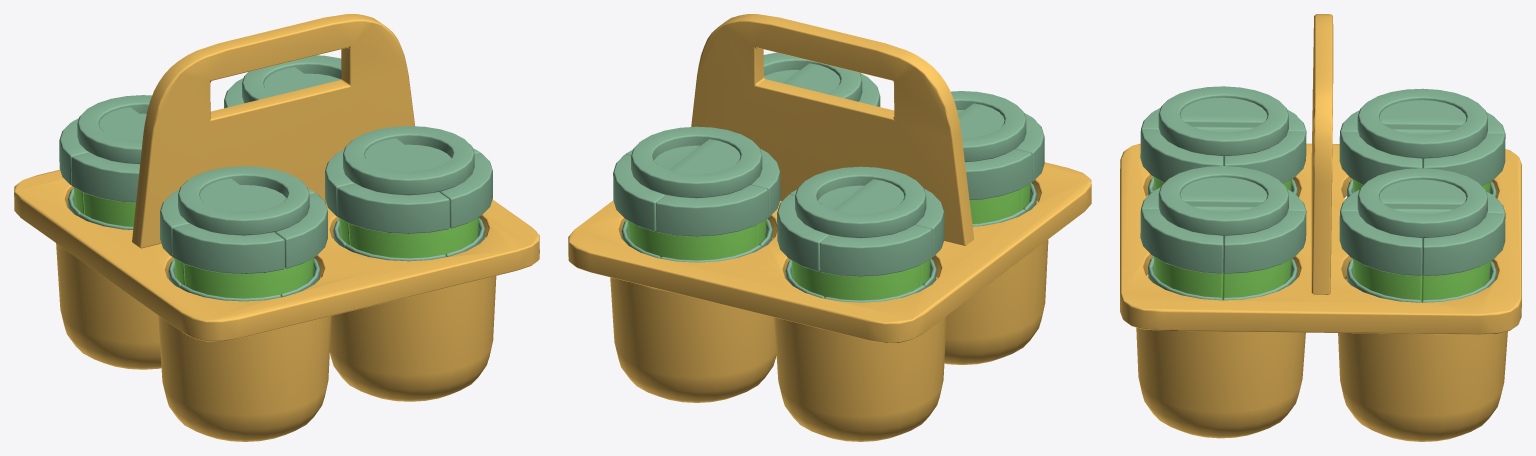
Rendered from level_170.fbx.
The picture shows the model from 3 angles, left to right: view 1: azimuth 30°, elevation 25°; view 2: azimuth 150°, elevation 25°; view 3: azimuth 270°, elevation 25°; orthographic projection.
Parts seen in each view (by area): view 1: Cube_L1_2, Cube_L1_3, Cube_L1, Cube_L1_4, Cube_L1_1, Cube_L2_7, Cube_L2_10, Cube_L2_11, Cube_L2_5, Cube_L2_2, Cube_L3_11, Cube_L3_31 (+8 smaller); view 2: Cube_L1_2, Cube_L1_3, Cube_L1_1, Cube_L1_5, Cube_L2_16, Cube_L2_2, Cube_L1, Cube_L2_15, Cube_L2_1, Cube_L2_7, Cube_L3_6, Cube_L3_27 (+8 smaller); view 3: Cube_L1_3, Cube_L1_5, Cube_L1_4, Cube_L2_2, Cube_L2_10, Cube_L2_16, Cube_L2_7, Cube_L1_2, Cube_L2_13, Cube_L2_17, Cube_L2_19, Cube_L2_18 (+9 smaller).
Part boxes in pixels (x1=…): Cube_L1_2: x1=132, y1=14, x2=414, y2=248; Cube_L1_3: x1=14, y1=169, x2=539, y2=341; Cube_L1: x1=158, y1=277, x2=331, y2=441; Cube_L1_4: x1=330, y1=237, x2=496, y2=401; Cube_L1_1: x1=56, y1=243, x2=161, y2=369; Cube_L2_7: x1=178, y1=166, x2=309, y2=235; Cube_L2_10: x1=343, y1=126, x2=474, y2=195; Cube_L2_11: x1=337, y1=183, x2=449, y2=233; Cube_L2_5: x1=172, y1=223, x2=285, y2=274; Cube_L2_2: x1=77, y1=95, x2=151, y2=164; Cube_L3_11: x1=184, y1=232, x2=314, y2=298; Cube_L3_31: x1=349, y1=217, x2=478, y2=258; Cube_L1_2: x1=691, y1=14, x2=973, y2=245; Cube_L1_3: x1=568, y1=162, x2=1091, y2=342; Cube_L1_1: x1=774, y1=276, x2=946, y2=441; Cube_L1_5: x1=610, y1=237, x2=776, y2=402; Cube_L2_16: x1=631, y1=126, x2=762, y2=198; Cube_L2_2: x1=795, y1=166, x2=926, y2=238; Cube_L1: x1=936, y1=201, x2=1048, y2=364; Cube_L2_15: x1=656, y1=185, x2=768, y2=236; Cube_L2_1: x1=820, y1=225, x2=932, y2=276; Cube_L2_7: x1=951, y1=91, x2=1026, y2=162; Cube_L3_6: x1=791, y1=235, x2=920, y2=300; Cube_L3_27: x1=627, y1=220, x2=756, y2=260; Cube_L1_3: x1=1120, y1=143, x2=1521, y2=334; Cube_L1_5: x1=1338, y1=278, x2=1507, y2=441; Cube_L1_4: x1=1136, y1=274, x2=1305, y2=438; Cube_L2_2: x1=1357, y1=88, x2=1487, y2=158; Cube_L2_10: x1=1158, y1=166, x2=1288, y2=235; Cube_L2_16: x1=1357, y1=168, x2=1487, y2=237; Cube_L2_7: x1=1158, y1=86, x2=1288, y2=156; Cube_L1_2: x1=1311, y1=14, x2=1333, y2=294; Cube_L2_13: x1=1140, y1=209, x2=1223, y2=273; Cube_L2_17: x1=1339, y1=211, x2=1422, y2=275; Cube_L2_19: x1=1223, y1=210, x2=1306, y2=273; Cube_L2_18: x1=1422, y1=213, x2=1505, y2=276.
Size of the model in its own units: 15.74 by 14.3 by 15.75.
